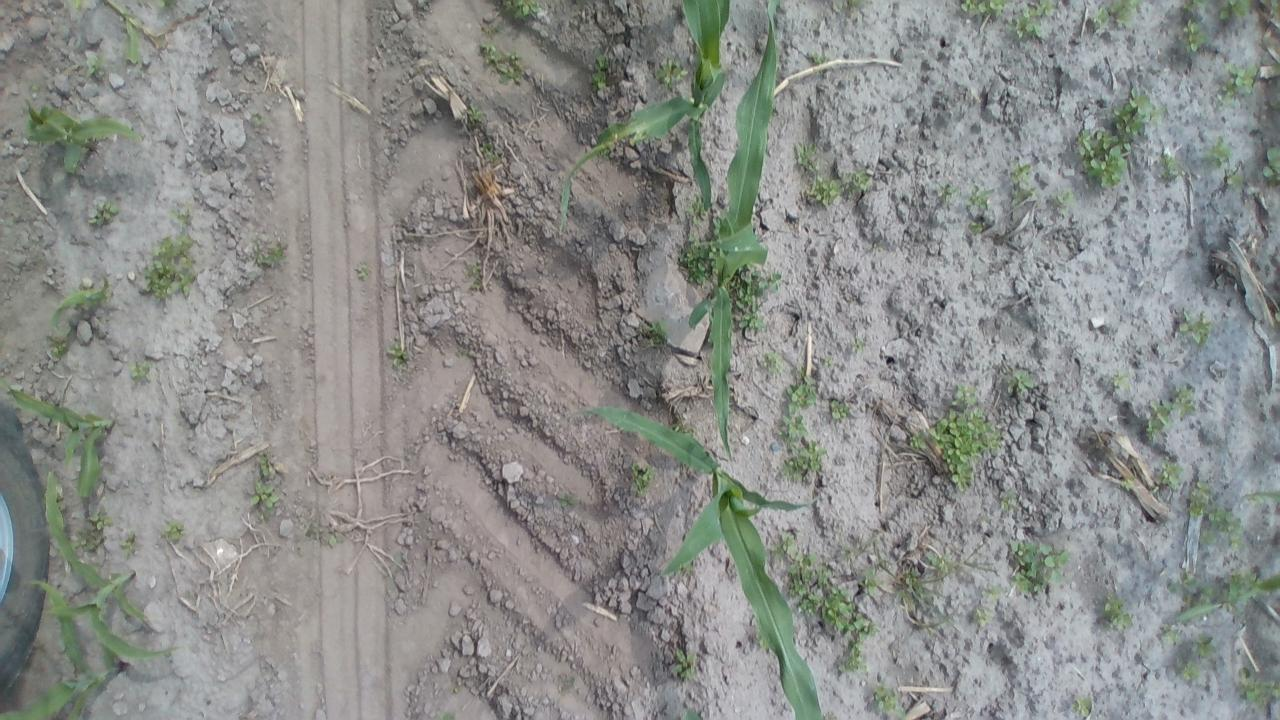Maize: (567, 408, 826, 718), (682, 13, 796, 476), (562, 0, 738, 228), (30, 471, 174, 663), (3, 382, 117, 503), (20, 97, 146, 178), (0, 644, 129, 719)
Weeds: (928, 396, 1001, 492), (786, 550, 870, 629), (1181, 567, 1280, 618), (142, 233, 196, 302), (1076, 122, 1129, 191), (1008, 538, 1070, 596), (732, 268, 782, 334), (50, 281, 112, 326), (1114, 88, 1160, 142), (478, 39, 526, 84), (780, 441, 824, 484), (836, 626, 871, 676), (1212, 64, 1258, 102), (678, 240, 715, 283), (1170, 572, 1216, 606), (1176, 308, 1216, 347), (1235, 671, 1276, 709), (1206, 504, 1243, 546), (786, 368, 819, 411), (250, 470, 280, 516), (1011, 5, 1048, 42), (80, 509, 112, 551), (1098, 592, 1132, 630), (1144, 398, 1174, 440), (249, 236, 285, 270), (806, 176, 848, 205), (870, 685, 905, 717), (897, 568, 925, 606), (1101, 1, 1140, 28), (653, 58, 684, 90), (1186, 480, 1212, 518), (630, 461, 656, 498), (670, 648, 698, 682), (856, 568, 887, 598), (498, 0, 540, 22), (1182, 18, 1206, 55), (960, 0, 1009, 18), (778, 410, 808, 439), (1203, 136, 1231, 166), (1172, 385, 1199, 416), (1008, 160, 1034, 192), (1010, 368, 1036, 398), (91, 202, 120, 228), (594, 54, 614, 91), (964, 184, 992, 210), (1156, 152, 1180, 182), (793, 142, 820, 168), (644, 318, 669, 346), (1158, 462, 1182, 491), (1218, 0, 1250, 21), (973, 607, 1001, 630), (928, 554, 959, 574), (386, 341, 408, 369), (952, 382, 977, 406), (1176, 659, 1204, 680), (1194, 637, 1218, 660), (760, 348, 781, 374), (1071, 694, 1094, 717), (171, 202, 193, 226), (848, 166, 870, 190), (686, 194, 707, 219), (1262, 147, 1277, 182), (163, 520, 186, 542), (1053, 189, 1075, 212), (119, 530, 137, 558), (1108, 370, 1132, 391), (1248, 490, 1278, 506), (86, 55, 105, 80), (999, 489, 1018, 513), (936, 182, 958, 202), (1224, 168, 1244, 190), (829, 400, 850, 420), (466, 102, 485, 124), (908, 428, 925, 452), (466, 262, 483, 286), (557, 492, 581, 509), (130, 361, 150, 381), (477, 139, 498, 158), (324, 529, 344, 547), (808, 51, 828, 68), (453, 346, 474, 362), (1160, 624, 1178, 642), (50, 340, 68, 358), (838, 0, 865, 11), (849, 336, 866, 352), (250, 111, 266, 128), (984, 585, 1002, 600), (1182, 0, 1208, 10), (355, 262, 370, 279), (67, 0, 86, 11), (435, 710, 455, 718)
